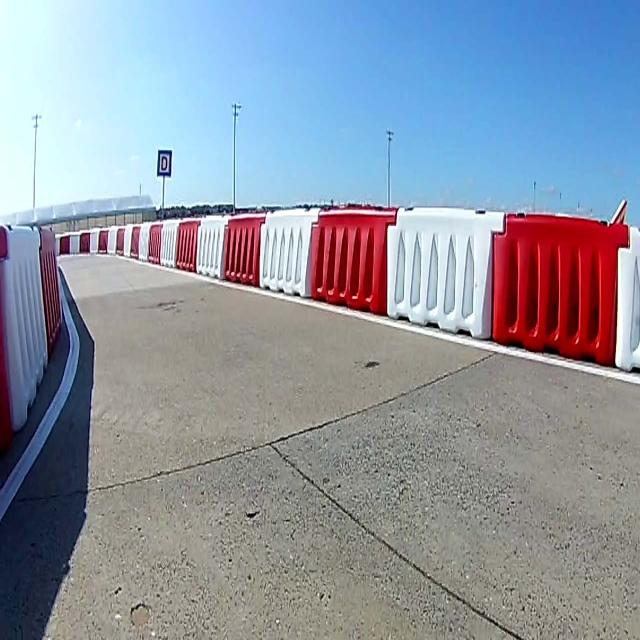durak: (158, 150, 171, 176)
